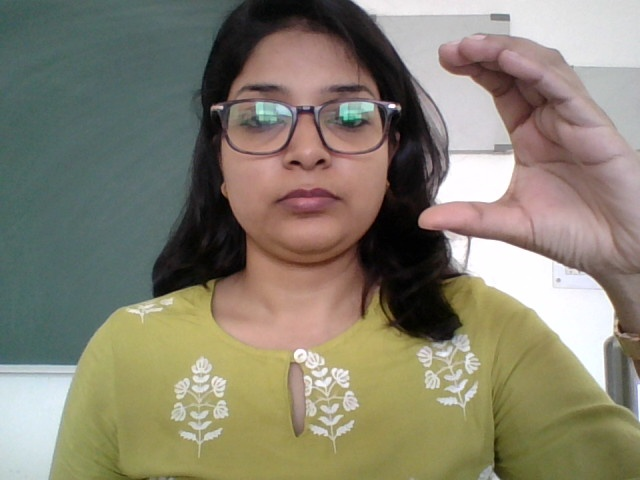C: (416, 31, 630, 304)
